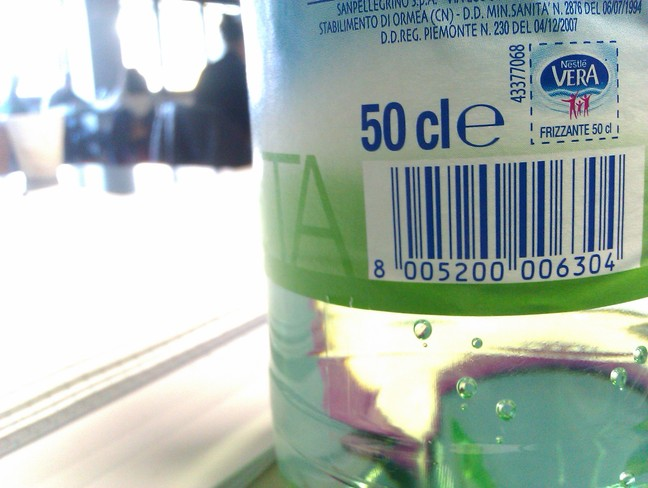barcode: (354, 154, 641, 289)
